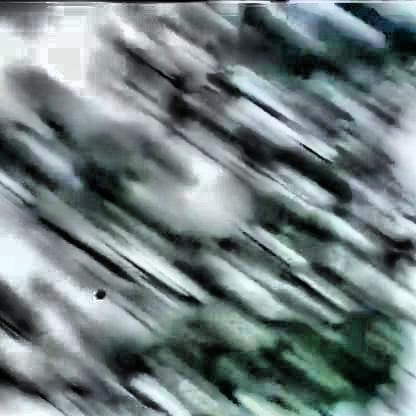golfball: (92, 285, 105, 298)
